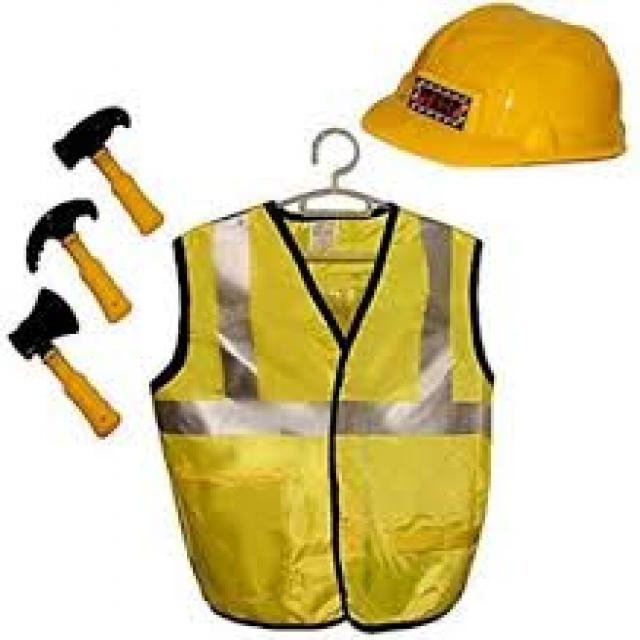Reflective-Jacket: (5, 5, 543, 640)
Safety-Helmet: (351, 3, 637, 178)
